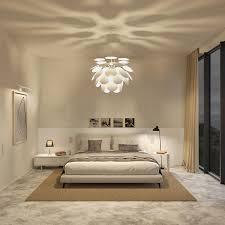bed: (57, 134, 164, 191)
door: (209, 42, 225, 182), (195, 51, 210, 173)
light: (85, 47, 140, 98), (153, 123, 164, 152), (42, 135, 56, 155)
table: (32, 151, 68, 170), (157, 149, 171, 174)
